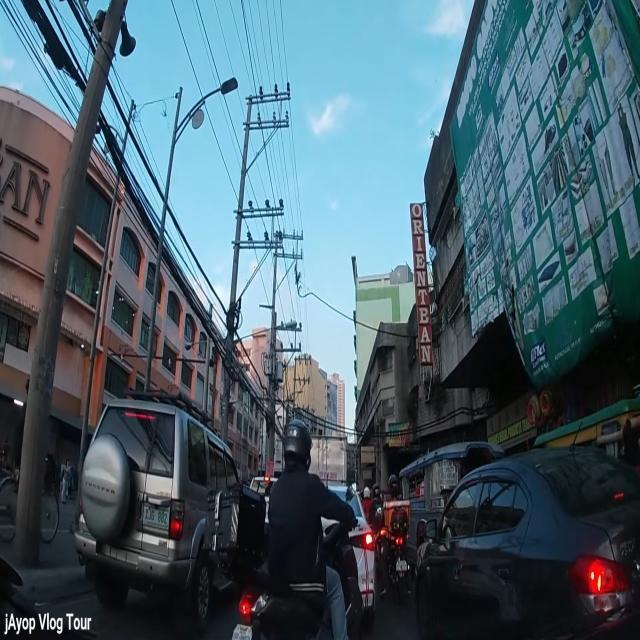bike: (0, 379, 60, 547)
car: (412, 443, 640, 640), (75, 393, 239, 618)
jeepney: (402, 444, 506, 556)
motorcycle: (202, 418, 368, 640), (382, 474, 411, 604), (367, 482, 384, 572)
truck: (312, 436, 347, 486)
